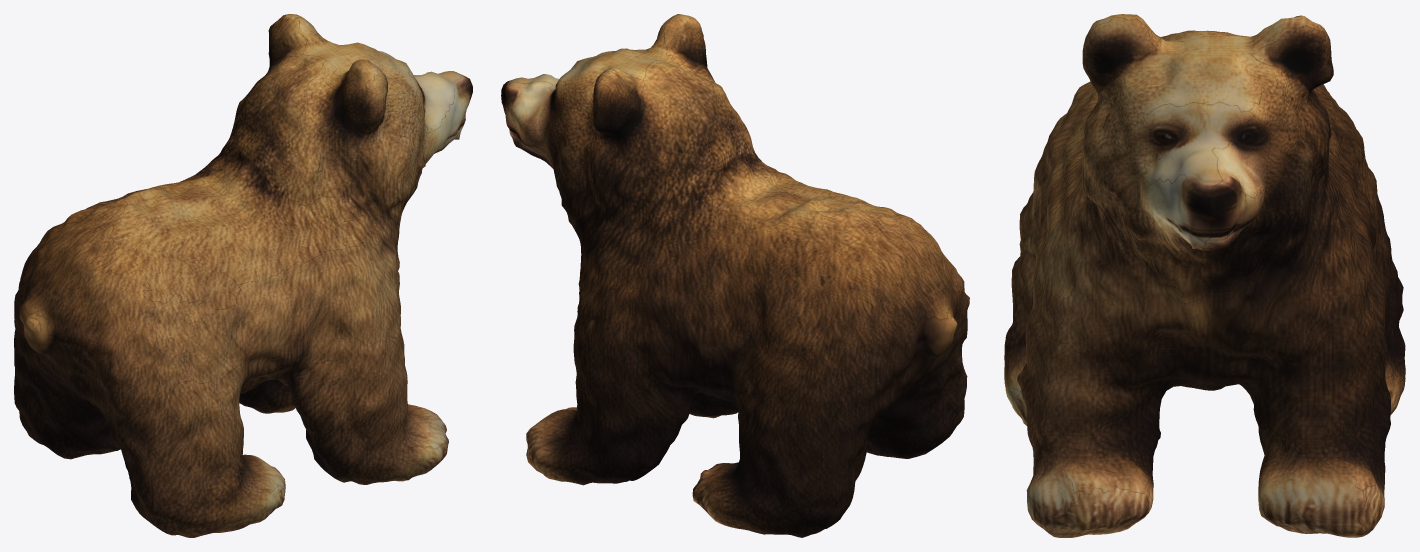
Rendered from bear.glb.
3 views of the same model, side by side, from view 1: azimuth 30°, elevation 25°; view 2: azimuth 150°, elevation 25°; view 3: azimuth 270°, elevation 25° (orthographic). The views are drawn at different scales.
Visible parts, largest first — view 1: Mesh1; view 2: Mesh1; view 3: Mesh1.
Part boxes in pixels (x1,y1,x2,y2): Mesh1: (14,14,472,537); Mesh1: (501,14,969,537); Mesh1: (1004,14,1405,537).
Size of the model in its own units: 1.2 by 1.04 by 0.7523.
Materials: 1 (1 with a texture image).
